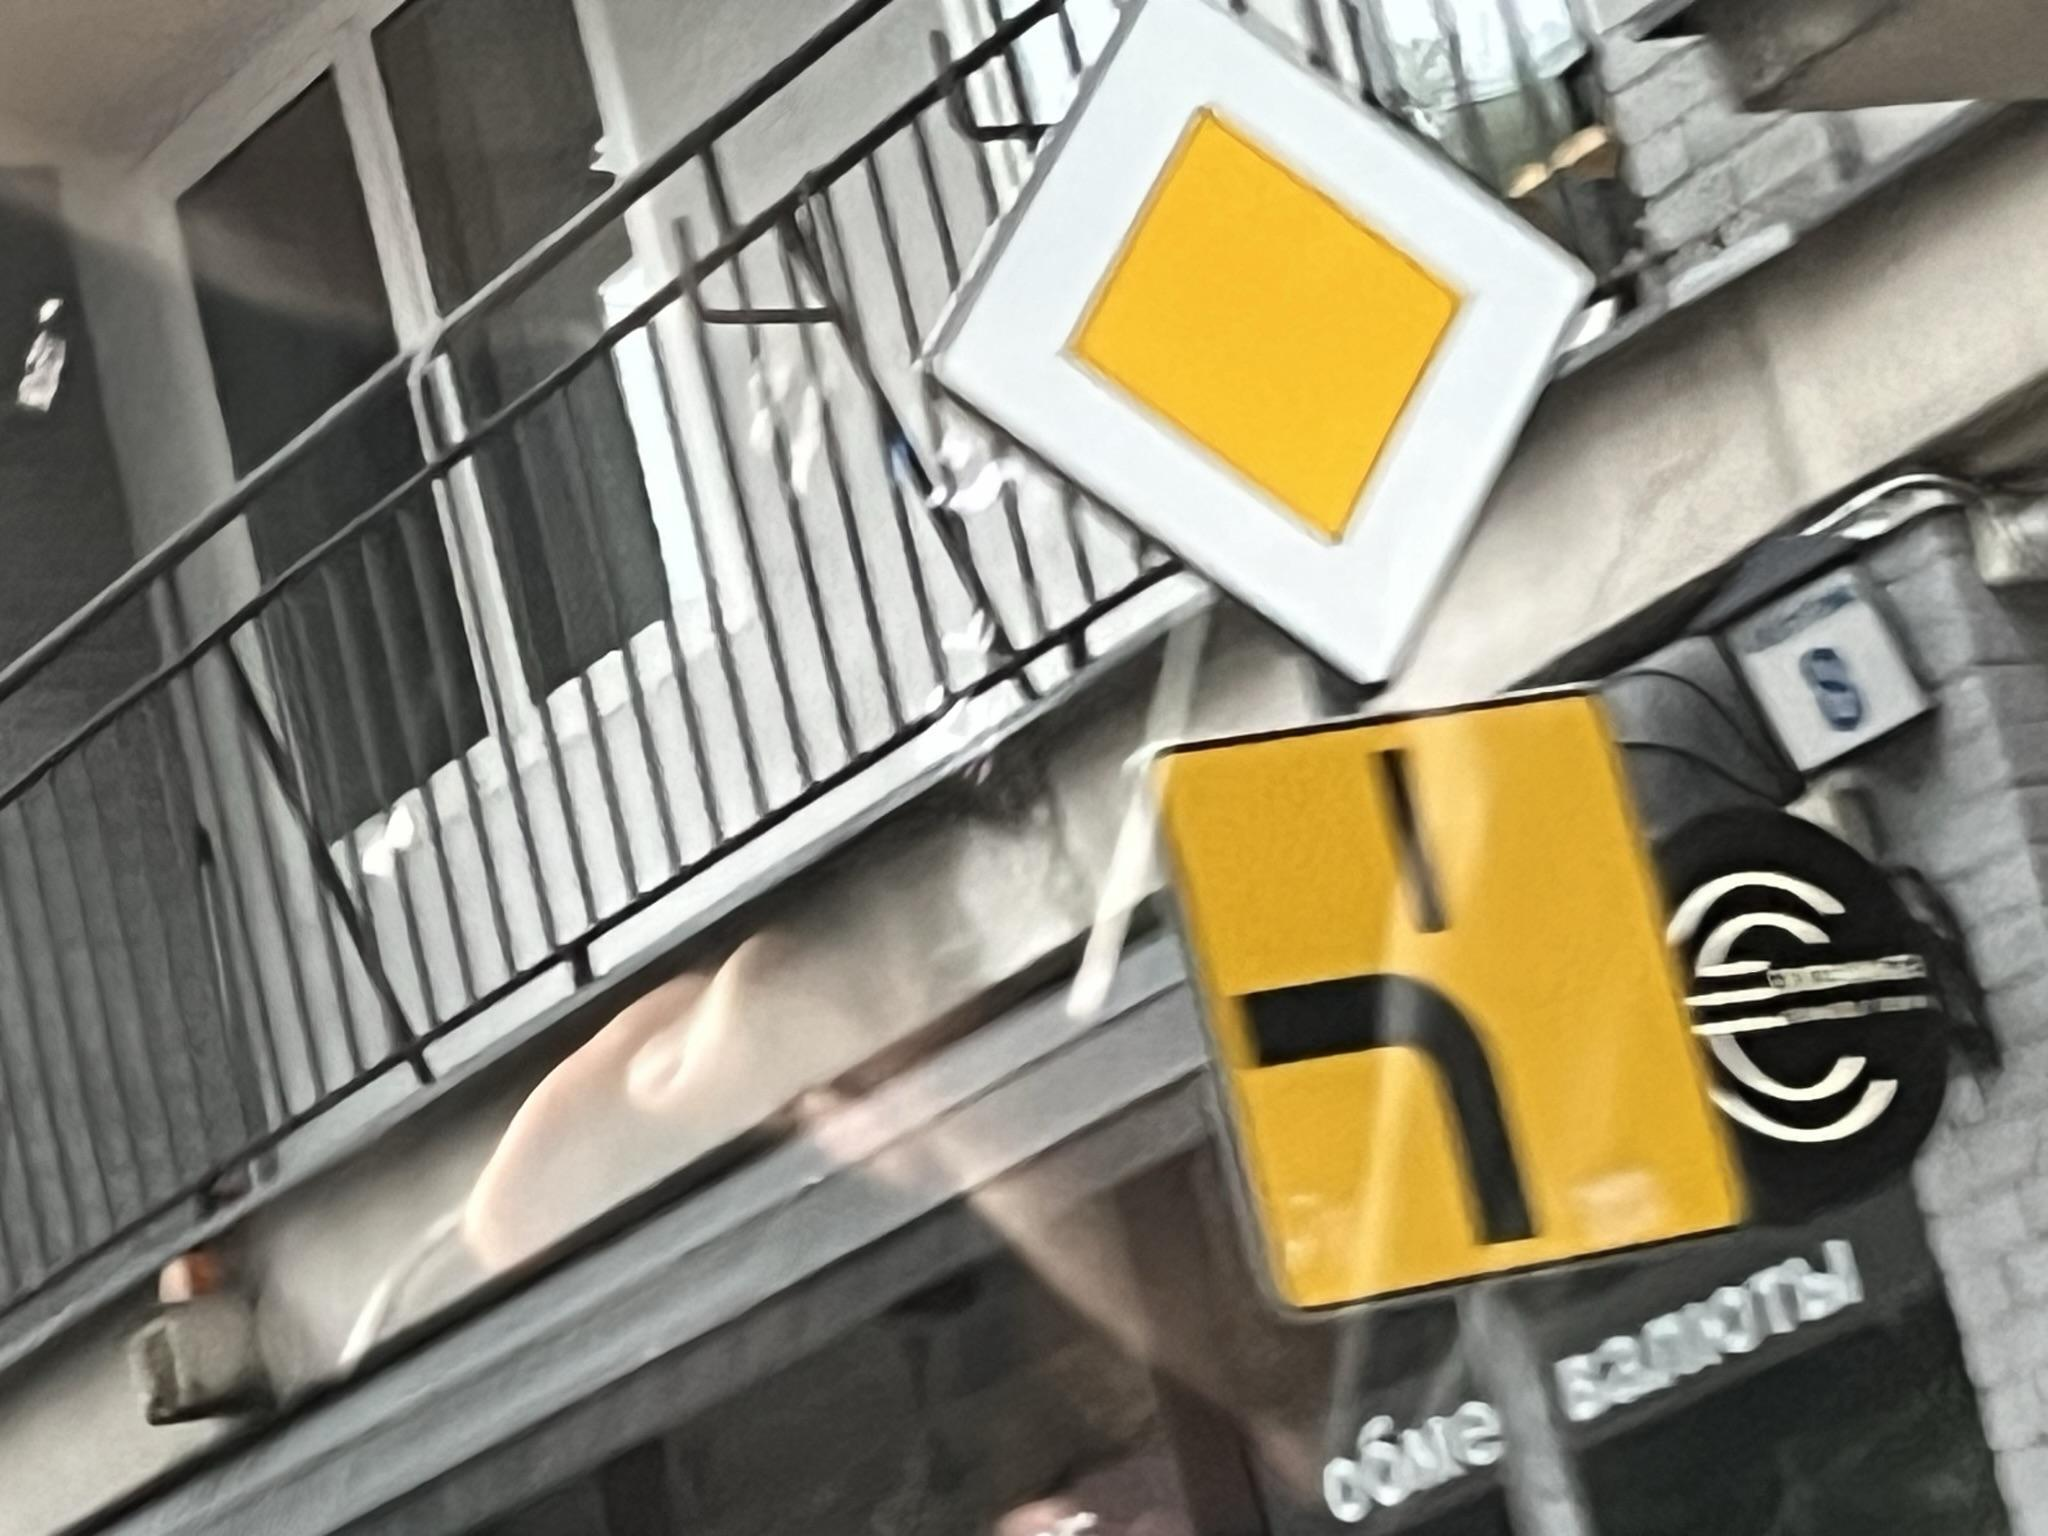information: (916, 0, 1600, 695)
other: (1148, 692, 1763, 1321)
